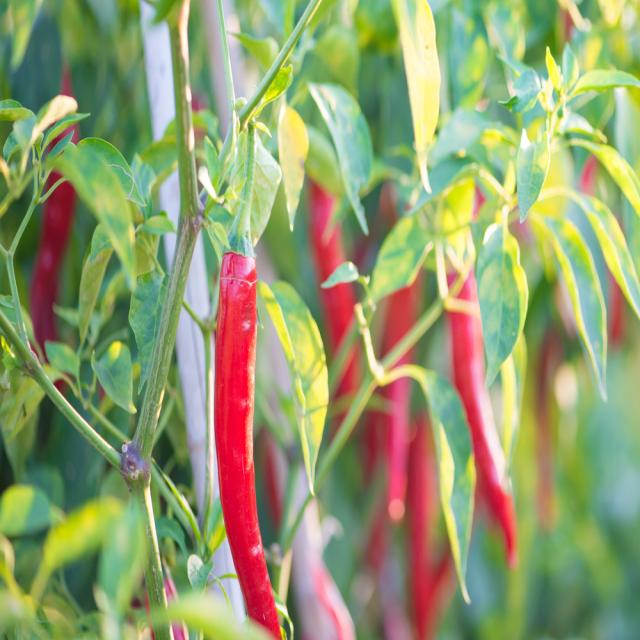Ripe: (215, 251, 280, 639)
